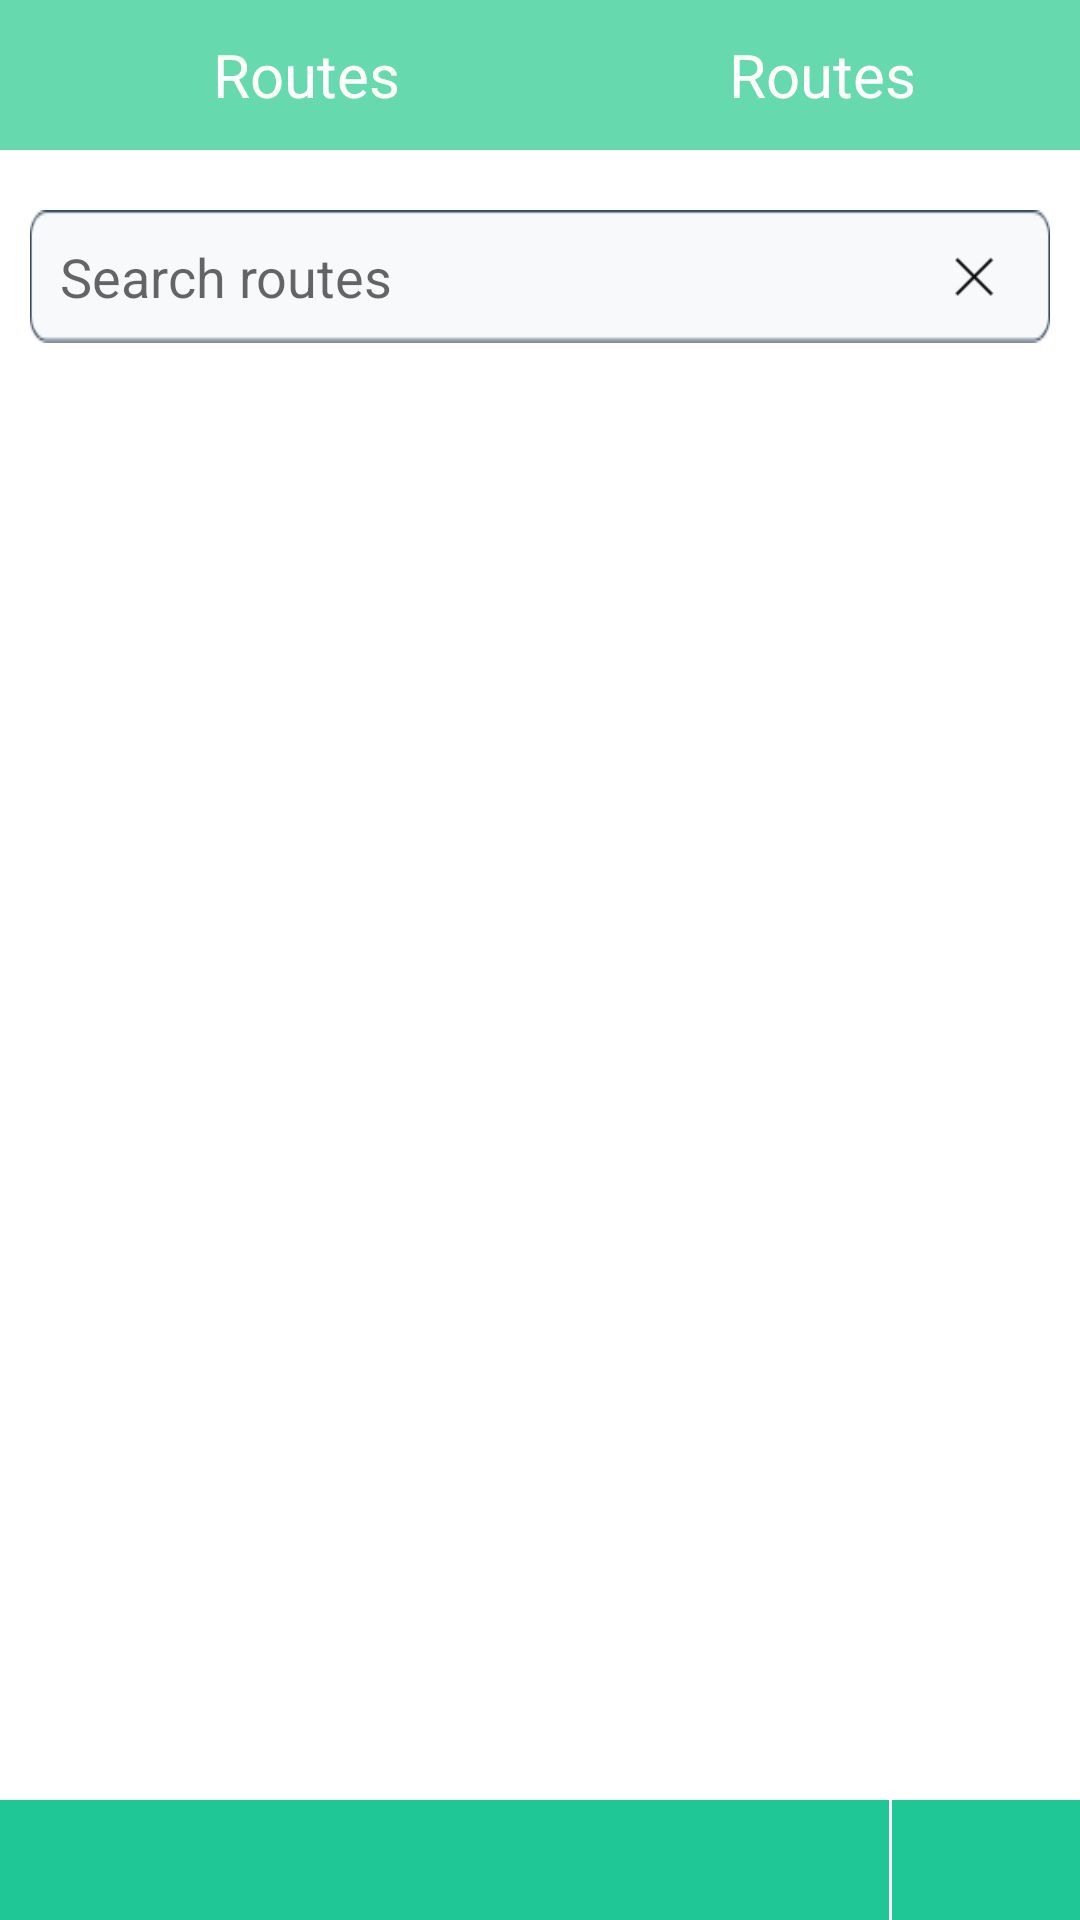

Screen size 1080*1920. Icon name, then its box in pixels as (x1, y1, x2, y2):
cross: (955, 257, 994, 296)
